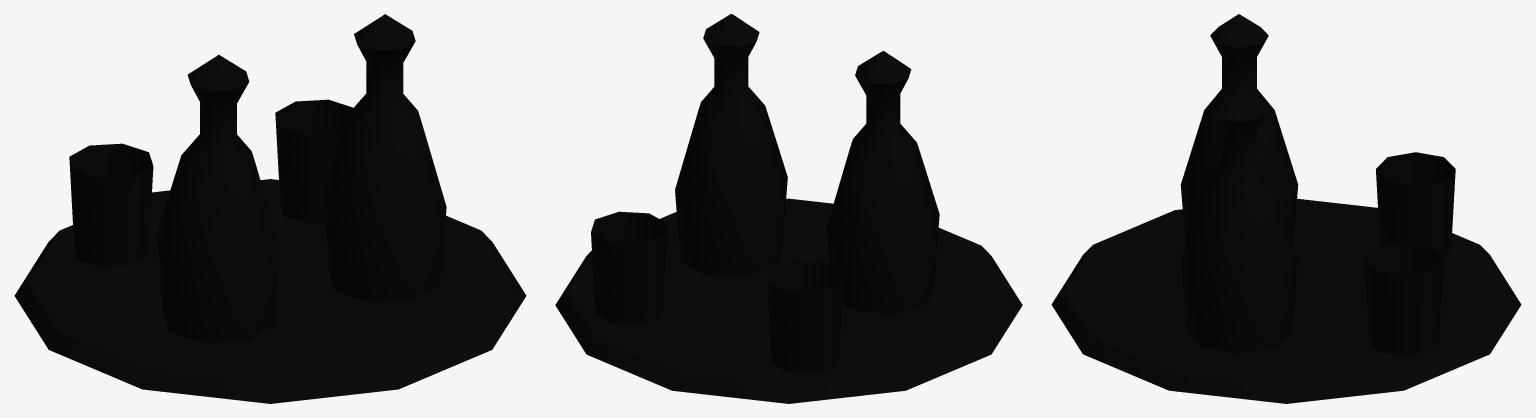
File: SM_decanter_tray.fbx
3 views of the same model, side by side, from view 1: azimuth 30°, elevation 25°; view 2: azimuth 150°, elevation 25°; view 3: azimuth 270°, elevation 25° (orthographic). The views are drawn at different scales.
Parts seen in each view (by area): view 1: decanter_tray; view 2: decanter_tray; view 3: decanter_tray.
Part boxes in pixels (x1,y1,x2,y2): decanter_tray: (14, 14, 526, 403); decanter_tray: (555, 14, 1022, 403); decanter_tray: (1051, 14, 1521, 403).
Bounding box in the file's own units: 0.4 × 0.24 × 0.4.
